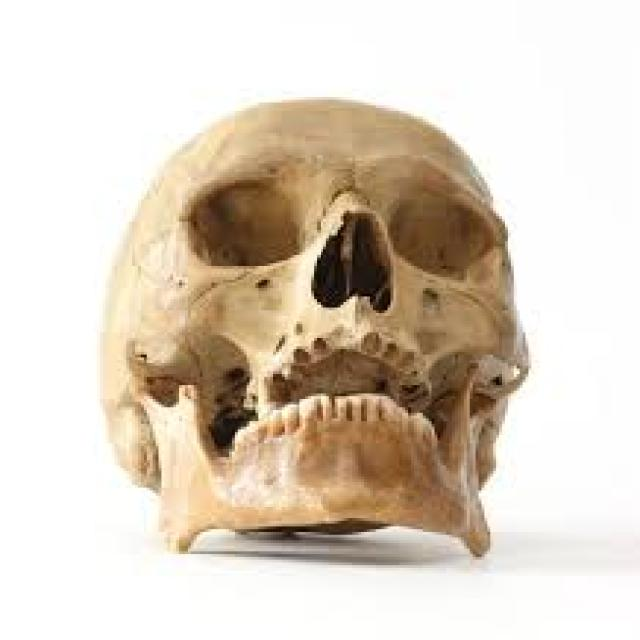skull: (97, 45, 525, 575)
